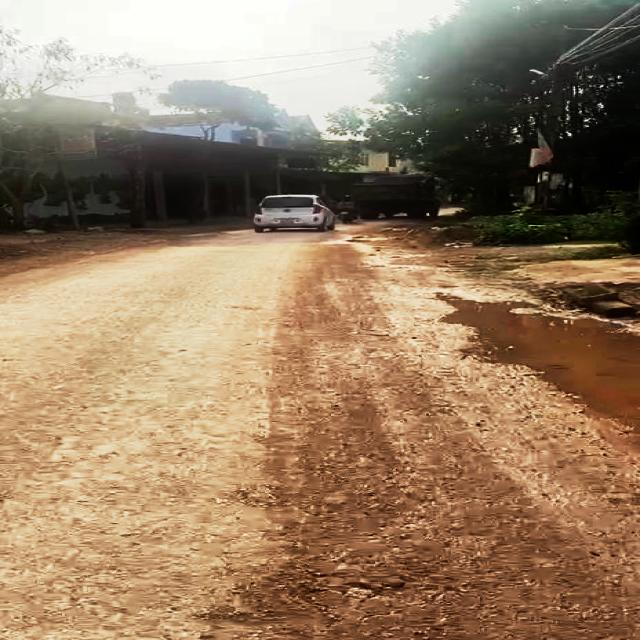pothole: (440, 286, 640, 429)
